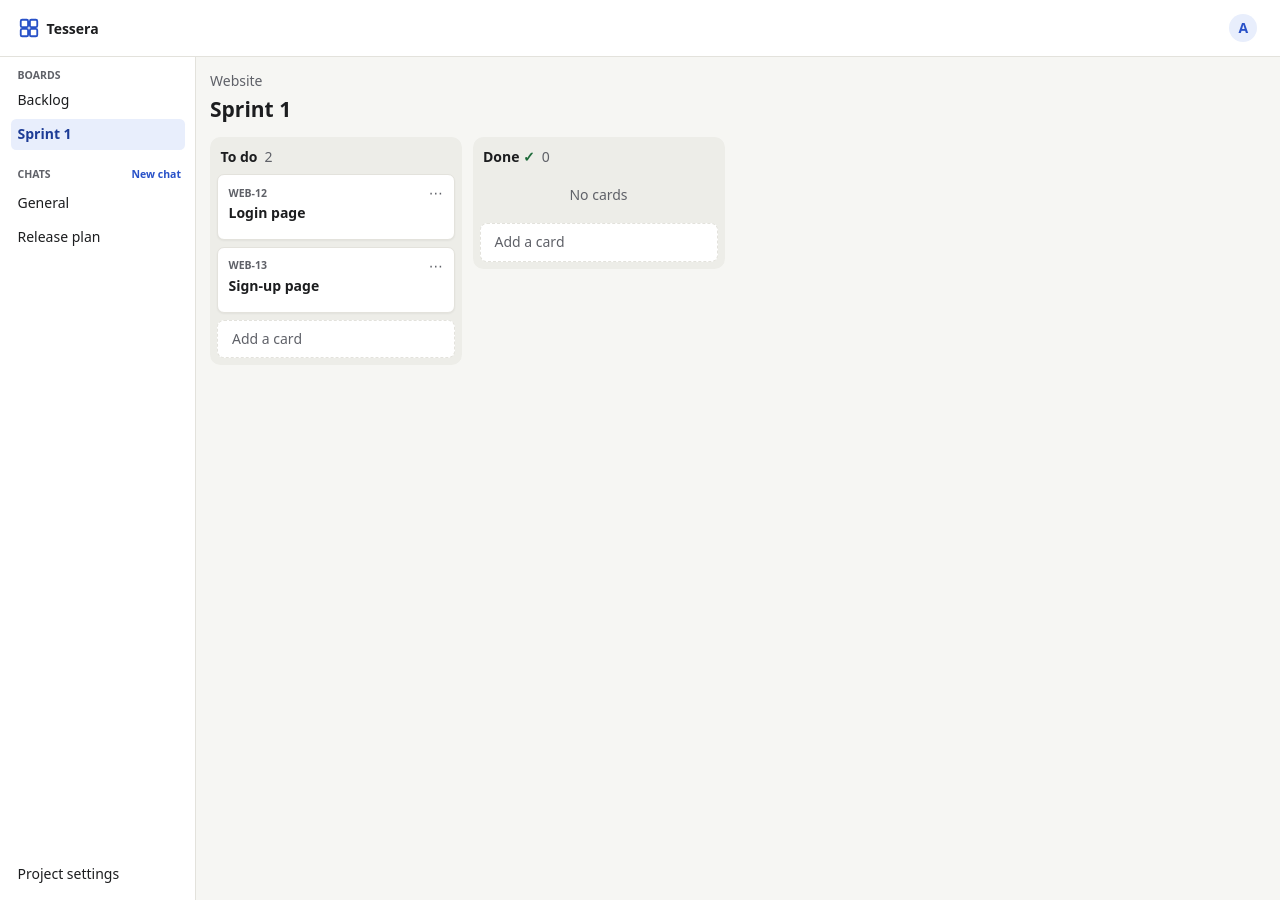
Chats and cards › asks to create a card for a chat with no card, and makes one in the first column
Click the link "Release plan": [59, 237] box x1=18 y1=227 x2=100 y2=246
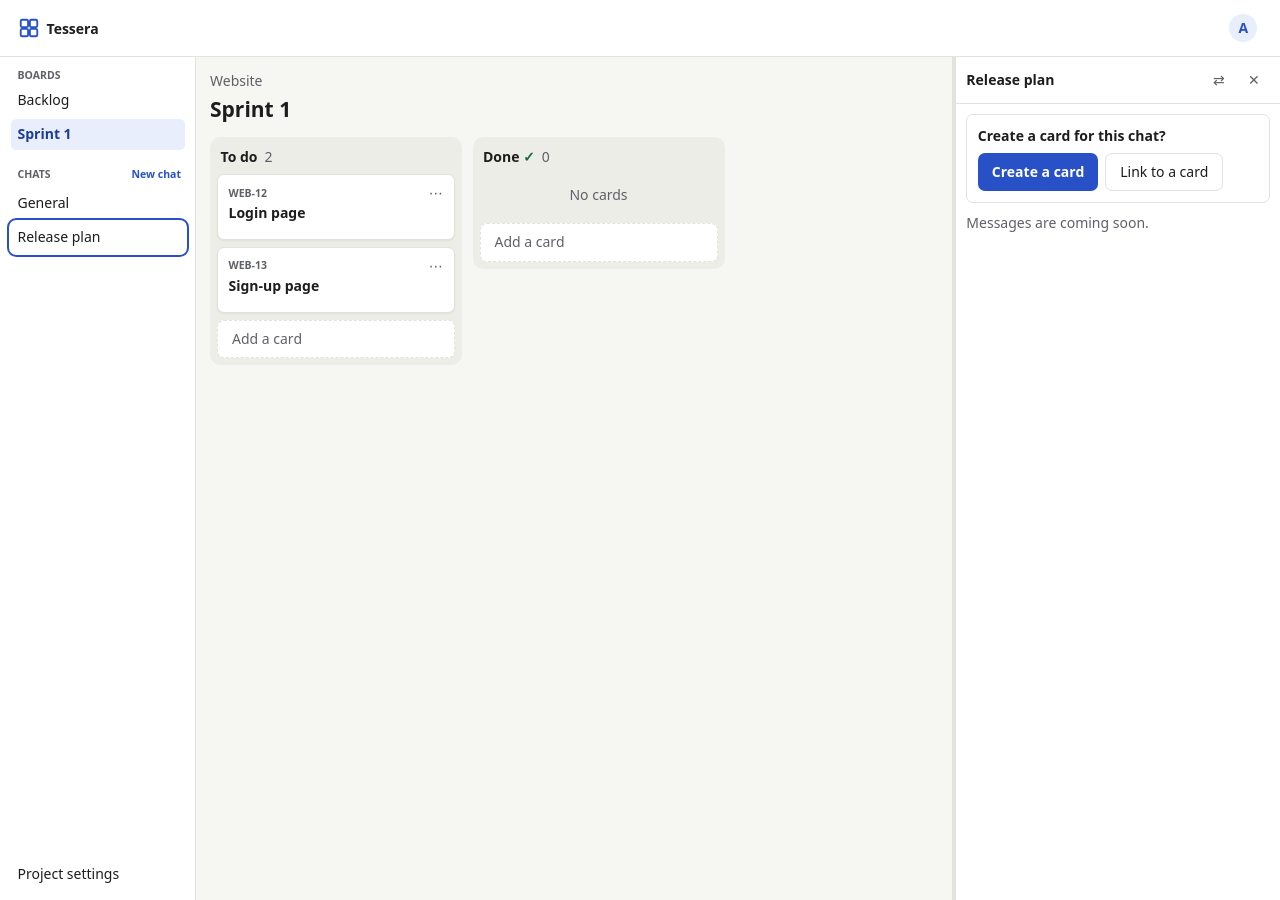
Expected: the element named "Chat: " shows "Create a card for this chat?", x1=978 y1=126 x2=1166 y2=144
Click the button "Create a card": [1038, 172] box x1=978 y1=152 x2=1098 y2=191
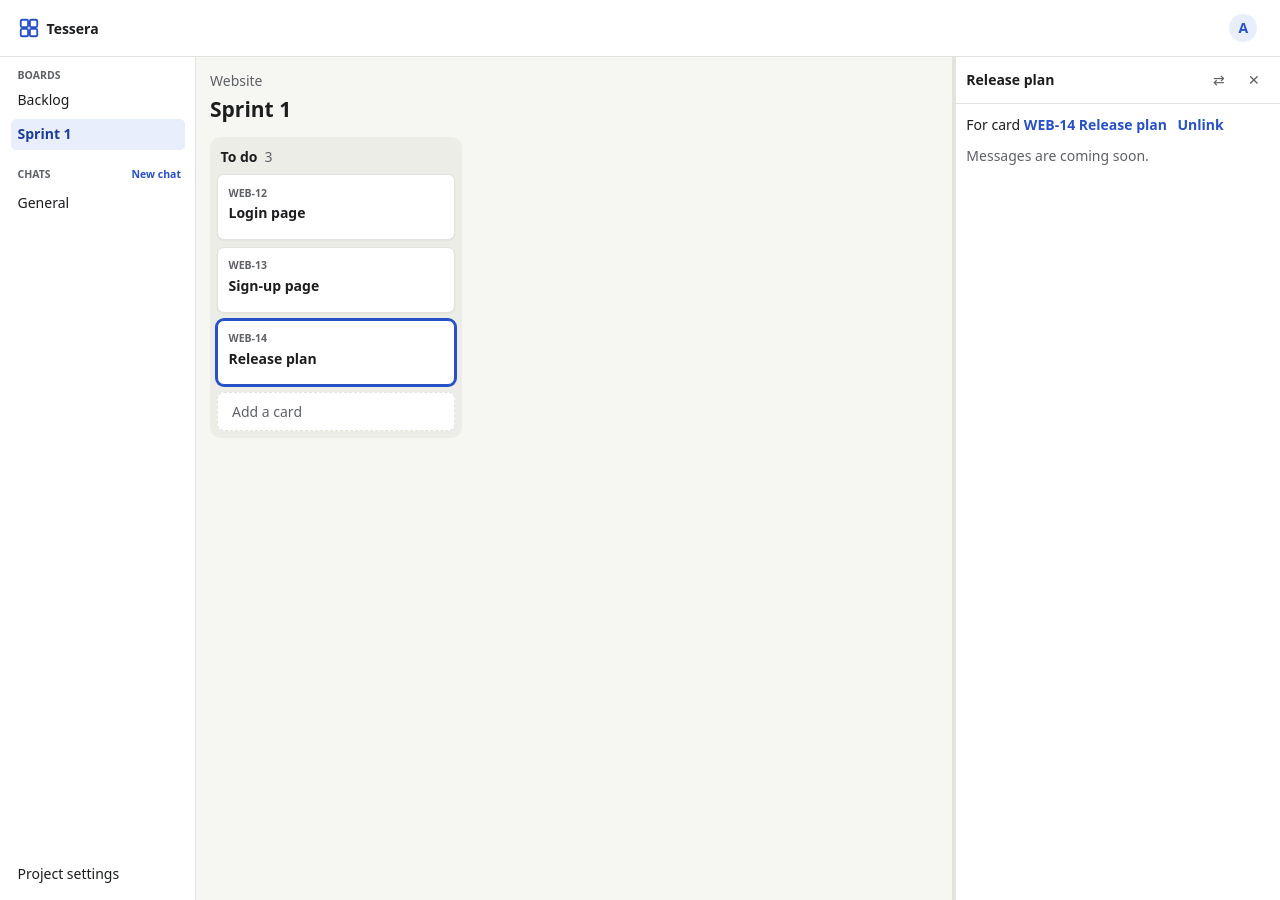
Expected: the button "WEB-14 Release plan" next to "For card" is shown, x1=1024 y1=114 x2=1167 y2=134
